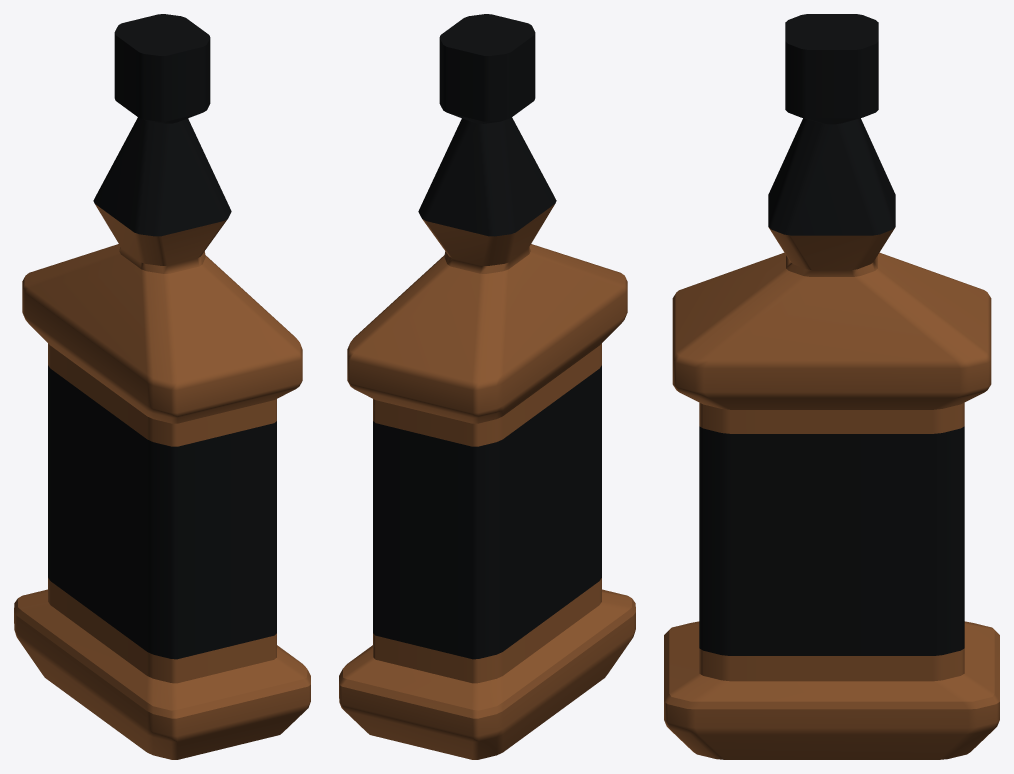
The model's file is 01fles4_nieuwestijl.fbx.
3 renders of one model, left to right at view 1: azimuth 30°, elevation 25°; view 2: azimuth 150°, elevation 25°; view 3: azimuth 270°, elevation 25°, orthographic. The views are drawn at different scales.
Parts seen in each view (by area): view 1: pCube222; view 2: pCube222; view 3: pCube222.
Part boxes in pixels (x1,y1,x2,y2): pCube222: (14,14,310,759); pCube222: (339,14,635,759); pCube222: (664,14,999,759).
Bounding box in the file's own units: 0.1433 × 0.5643 × 0.2473.
